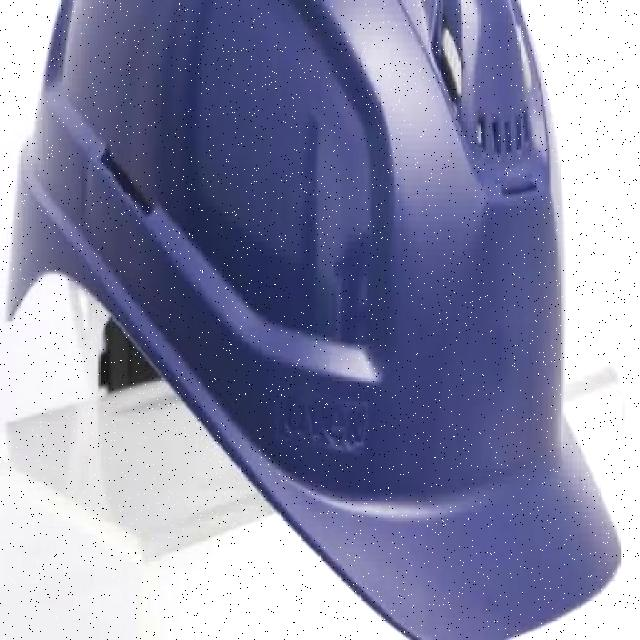Helmet: (3, 0, 624, 638)
